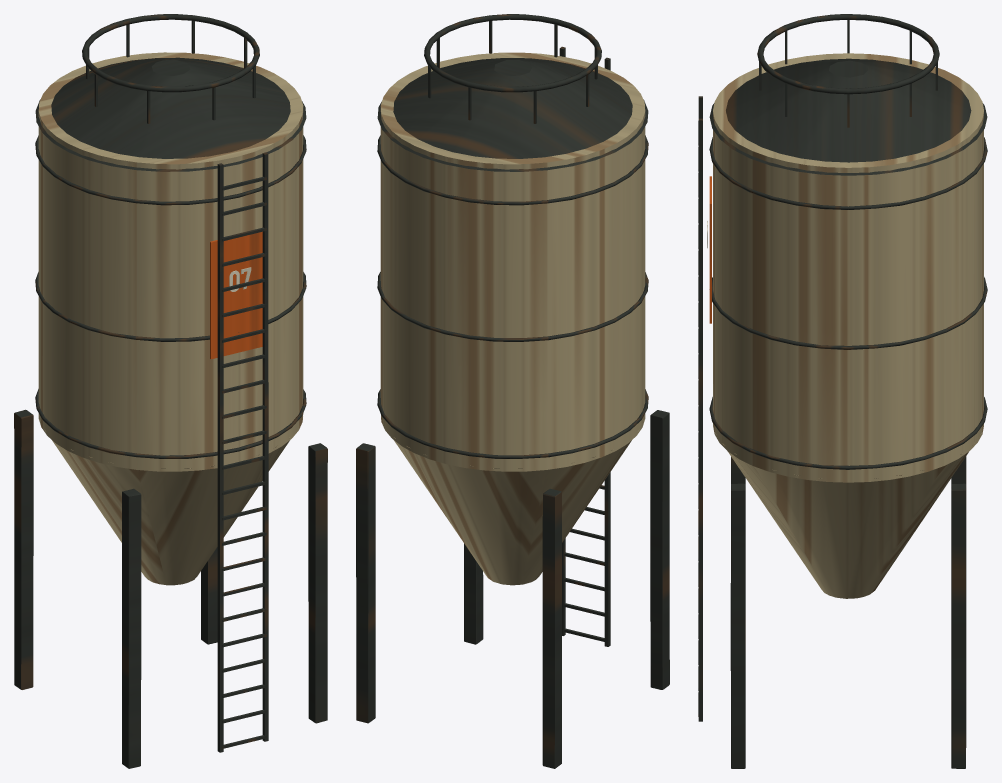
File: silo-lod.obj
The picture shows the model from 3 angles, left to right: view 1: azimuth 30°, elevation 25°; view 2: azimuth 150°, elevation 25°; view 3: azimuth 270°, elevation 25°; orthographic projection. The views are drawn at different scales.
Parts seen in each view (by area): view 1: silo.001; view 2: silo.001; view 3: silo.001.
Part boxes in pixels (x1,y1,x2,y2): silo.001: [14, 14, 327, 768]; silo.001: [356, 14, 669, 768]; silo.001: [698, 14, 987, 768].
Bounding box in the file's own units: 2.53 × 6.69 × 2.63.
1 material, 1 textured.
